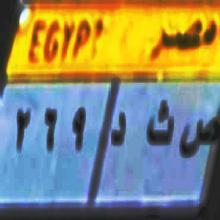2: (10, 100, 33, 162)
6: (38, 100, 61, 160)
9: (66, 103, 92, 160)
daal: (108, 105, 131, 157)
saad: (179, 111, 218, 162)
thaa: (144, 102, 178, 149)
